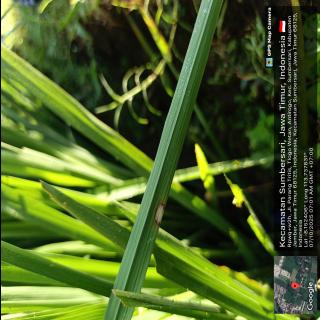Blast: (150, 198, 167, 227)
